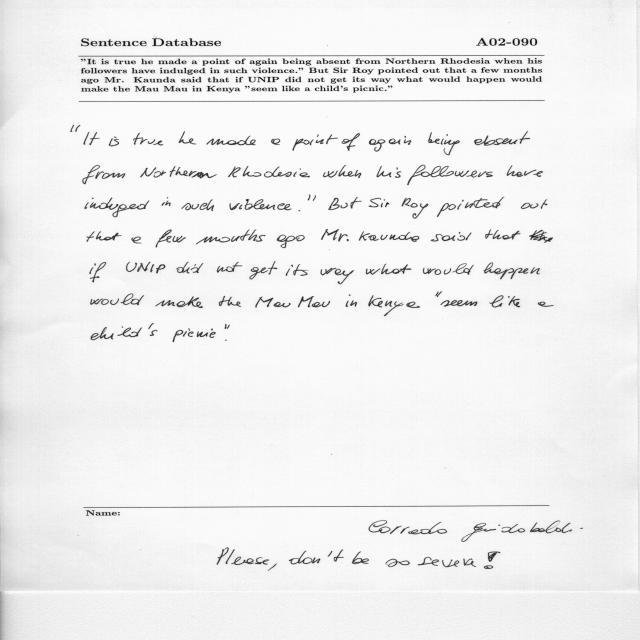word: (407, 165, 493, 185), (437, 197, 504, 217), (85, 198, 149, 218), (91, 324, 157, 341), (368, 295, 420, 316), (197, 230, 266, 245), (483, 263, 540, 280), (485, 229, 553, 243), (140, 166, 217, 178), (228, 166, 310, 177), (474, 131, 530, 146), (83, 165, 126, 184), (292, 134, 338, 151), (428, 132, 460, 155), (230, 199, 292, 210), (369, 136, 411, 152), (359, 231, 419, 242), (91, 294, 144, 306), (423, 263, 474, 275), (173, 328, 216, 342), (402, 198, 429, 219), (156, 296, 203, 308), (320, 268, 354, 284), (156, 230, 186, 248), (250, 262, 278, 280), (206, 136, 256, 146), (366, 264, 411, 275), (323, 165, 361, 178), (328, 197, 362, 210), (507, 165, 543, 177), (126, 262, 165, 273), (255, 297, 291, 308), (490, 295, 520, 308), (87, 231, 122, 242), (431, 232, 472, 241), (277, 235, 305, 248), (321, 229, 349, 242), (182, 200, 215, 211), (133, 133, 163, 145), (298, 296, 330, 307), (341, 133, 360, 151), (177, 262, 204, 274), (90, 262, 106, 282), (377, 166, 402, 178), (217, 262, 242, 273), (521, 199, 548, 209), (286, 264, 308, 276), (441, 300, 478, 307), (219, 296, 241, 307), (179, 132, 197, 145), (83, 132, 100, 145), (369, 198, 390, 207), (346, 295, 357, 307), (109, 137, 119, 147), (162, 197, 171, 206), (538, 302, 554, 307), (131, 237, 142, 244), (71, 125, 81, 132), (271, 139, 280, 145), (308, 195, 316, 201), (435, 292, 442, 297), (225, 324, 230, 329), (299, 210, 301, 211), (225, 340, 227, 341)
